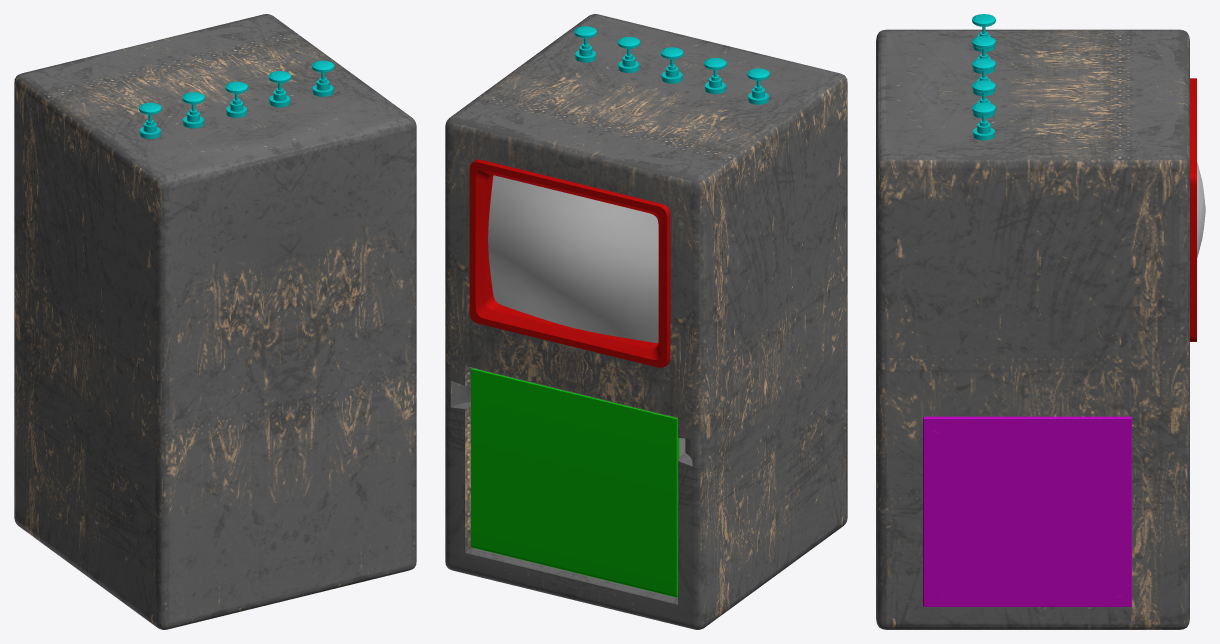
File: Huina.fbx
The picture shows the model from 3 angles, left to right: view 1: azimuth 30°, elevation 25°; view 2: azimuth 150°, elevation 25°; view 3: azimuth 270°, elevation 25°; orthographic projection. The views are drawn at different scales.
Visible parts, largest first — view 1: Boitier, Antennes; view 2: Boitier, Clavier, Monitor, Moniteur_Tour, Antennes; view 3: Boitier, Details, Moniteur_Tour, Monitor, Antennes.
Boxes of the visible parts, box(x1,y1,x2,y2) form: Boitier: box(14, 14, 416, 629); Antennes: box(139, 84, 333, 138); Boitier: box(445, 14, 847, 629); Clavier: box(470, 368, 679, 597); Monitor: box(488, 175, 658, 343); Moniteur_Tour: box(469, 159, 670, 367); Antennes: box(575, 50, 768, 104); Boitier: box(876, 29, 1189, 629); Details: box(923, 416, 1131, 606); Moniteur_Tour: box(1190, 78, 1196, 341); Monitor: box(1197, 162, 1205, 257); Antennes: box(973, 45, 994, 140).
Size of the model in its own units: 30.48 by 53.22 by 31.52.
Materials: 7 (1 with a texture image).
